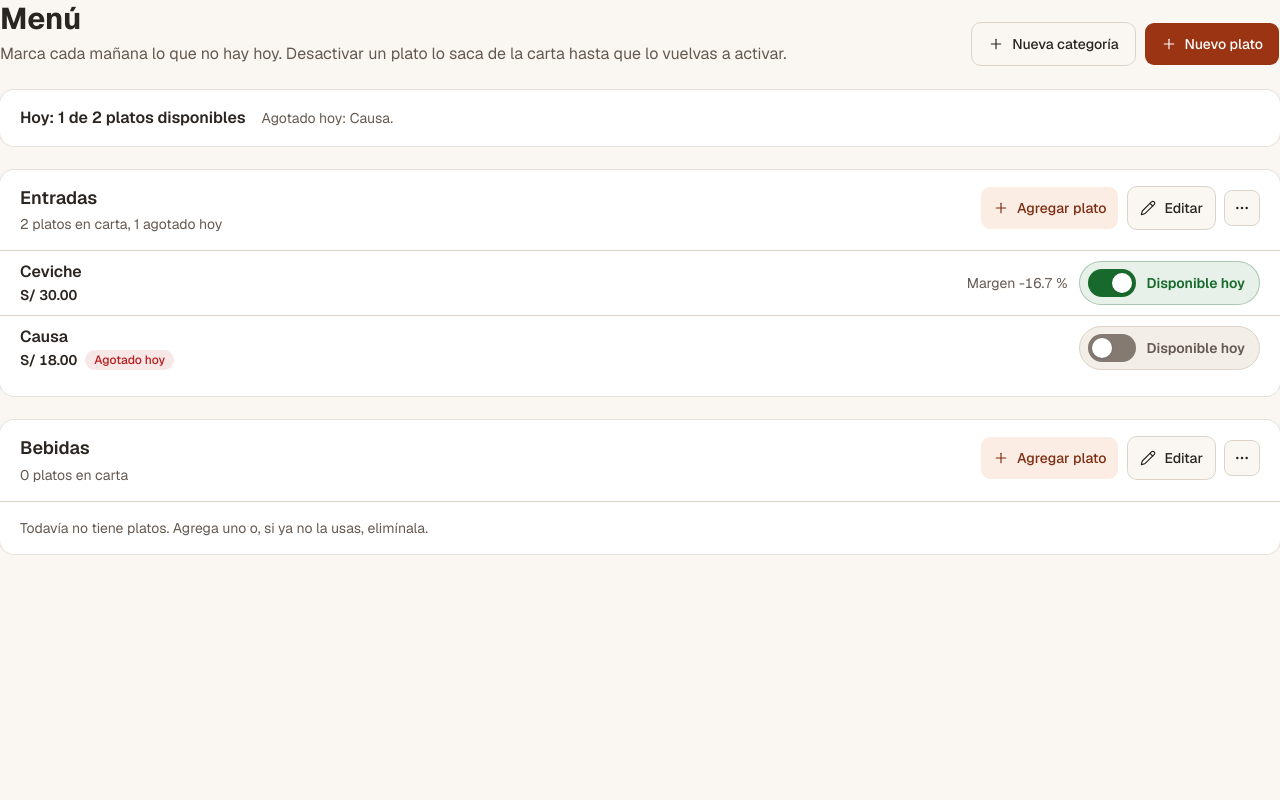
Test: MenuView: la carta › marca el plato que se vende a pérdida
Click the button named "Ver la ficha de Ceviche": (487, 283) [16,251,959,315]
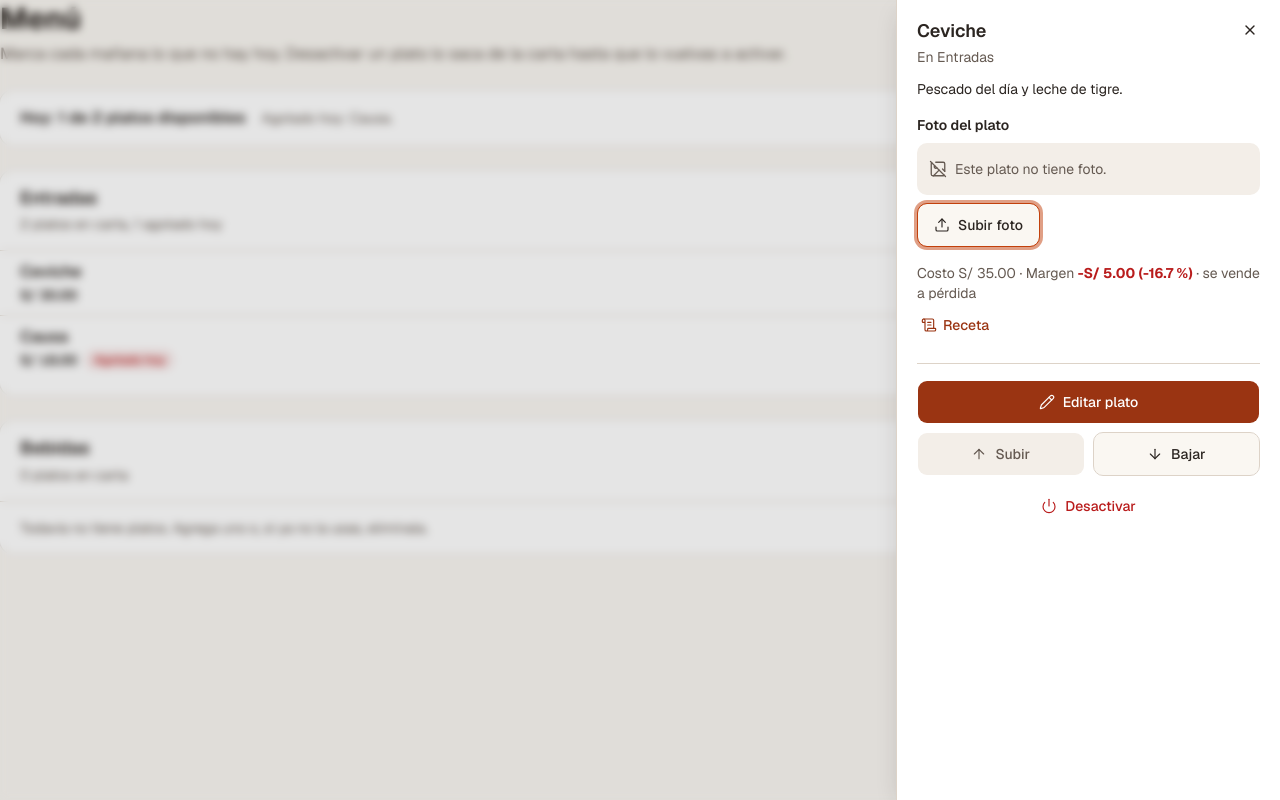
Expected: the text "se vende a pérdida" is shown, [917,264,1260,302]
